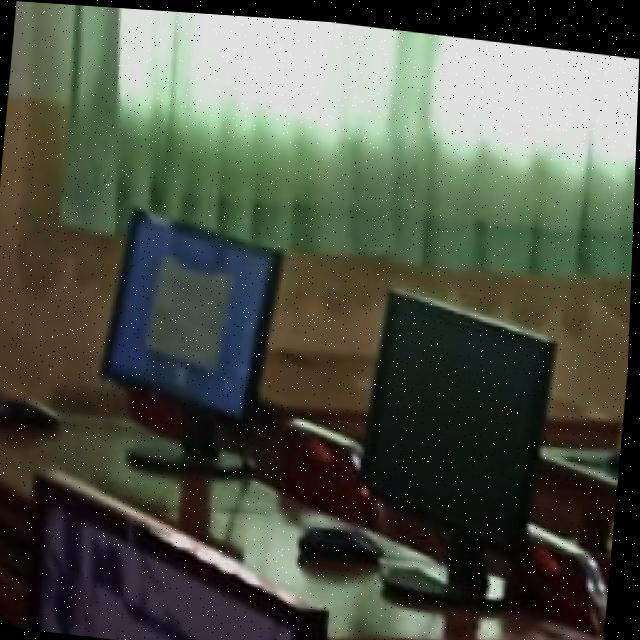offscreen: (367, 285, 557, 539)
onscreen: (105, 209, 283, 415)
